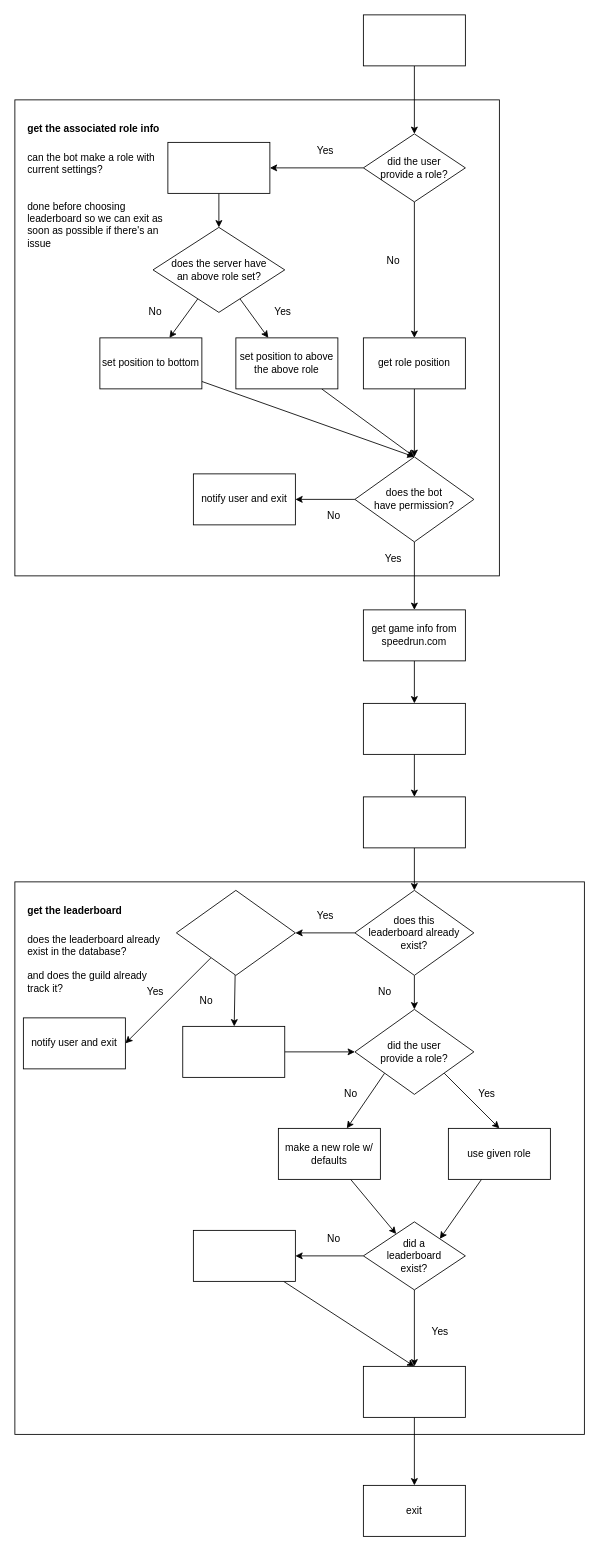
Image size: 599x1551. Some labels were removed from this diagram. Each missing label, with the centre of its shape:
add guild to list of tracked leaderboards: point (414, 1391)
calculate new role position: point (218, 167)
does this guild already track this leaderboard?: point (235, 932)
get the name of the leaderboard: point (414, 822)
make one: point (244, 1255)
make user select leaderboard category and variables: point (414, 728)
use this board: point (233, 1051)
validate input: point (414, 40)
